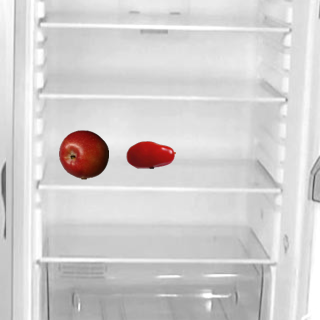Apple Braeburn: (58, 129, 108, 179)
Tomato 2: (125, 129, 175, 179)
